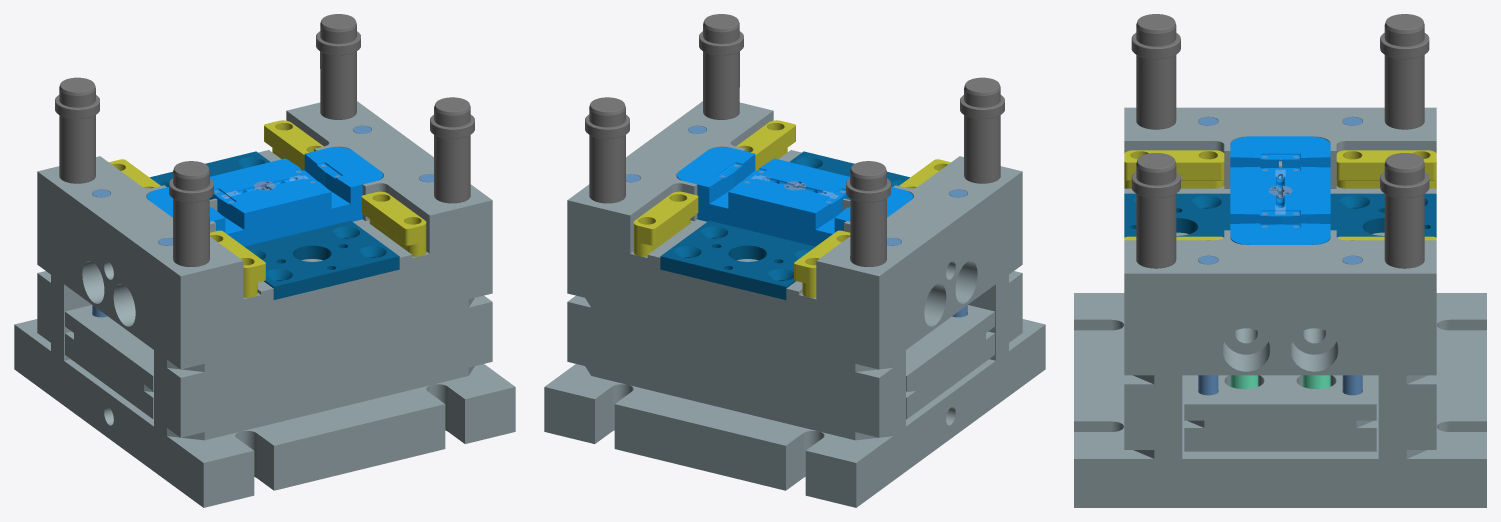
Rendered from mold-2.glb.
The picture shows the model from 3 angles, left to right: view 1: azimuth 30°, elevation 25°; view 2: azimuth 150°, elevation 25°; view 3: azimuth 270°, elevation 25°; orthographic projection. The views are drawn at different scales.
Parts seen in each view (by area): view 1: SOLID011.001, SOLID006.001, SOLID023.001, COMPOUND001.001, SOLID027.001, SOLID021.001, SOLID018.001, SOLID020.001, SOLID022.001, SOLID010.001, SOLID031.001, SOLID009.001 (+5 smaller); view 2: SOLID011.001, SOLID006.001, SOLID007.001, COMPOUND001.001, SOLID015.001, SOLID022.001, SOLID018.001, SOLID020.001, SOLID021.001, SOLID010.001, SOLID029.001, SOLID009.001 (+5 smaller); view 3: SOLID011.001, SOLID006.001, COMPOUND001.001, SOLID010.001, SOLID009.001, SOLID007.001, SOLID023.001, SOLID022.001, SOLID018.001, SOLID021.001, SOLID020.001, SOLID015.001 (+5 smaller).
Boxes of the visible parts, bbox=[...] form: SOLID011.001: bbox=[37, 101, 492, 369]; SOLID006.001: bbox=[14, 319, 515, 507]; SOLID023.001: bbox=[154, 295, 492, 440]; COMPOUND001.001: bbox=[147, 147, 382, 246]; SOLID027.001: bbox=[244, 220, 399, 299]; SOLID021.001: bbox=[430, 97, 474, 203]; SOLID018.001: bbox=[55, 77, 99, 183]; SOLID020.001: bbox=[169, 161, 213, 266]; SOLID022.001: bbox=[316, 14, 360, 119]; SOLID010.001: bbox=[65, 305, 153, 390]; SOLID031.001: bbox=[361, 191, 426, 256]; SOLID009.001: bbox=[65, 331, 153, 419]; SOLID011.001: bbox=[567, 101, 1022, 369]; SOLID006.001: bbox=[544, 319, 1045, 507]; SOLID007.001: bbox=[567, 295, 905, 440]; COMPOUND001.001: bbox=[677, 147, 912, 246]; SOLID015.001: bbox=[660, 220, 815, 299]; SOLID022.001: bbox=[585, 97, 629, 203]; SOLID018.001: bbox=[846, 161, 890, 266]; SOLID020.001: bbox=[960, 77, 1004, 183]; SOLID021.001: bbox=[699, 14, 743, 119]; SOLID010.001: bbox=[906, 305, 994, 390]; SOLID029.001: bbox=[633, 191, 698, 256]; SOLID009.001: bbox=[906, 331, 994, 419]; SOLID011.001: bbox=[1124, 107, 1436, 375]; SOLID006.001: bbox=[1074, 293, 1486, 507]; COMPOUND001.001: bbox=[1230, 136, 1330, 244]; SOLID010.001: bbox=[1184, 375, 1376, 420]; SOLID009.001: bbox=[1184, 420, 1376, 451]; SOLID007.001: bbox=[1378, 375, 1436, 458]; SOLID023.001: bbox=[1124, 375, 1182, 458]; SOLID022.001: bbox=[1380, 153, 1429, 268]; SOLID018.001: bbox=[1380, 14, 1429, 129]; SOLID021.001: bbox=[1131, 153, 1180, 268]; SOLID020.001: bbox=[1131, 14, 1180, 129]; SOLID015.001: bbox=[1330, 193, 1436, 237].
Size of the model in its own units: 0.196 by 0.1837 by 0.206.
